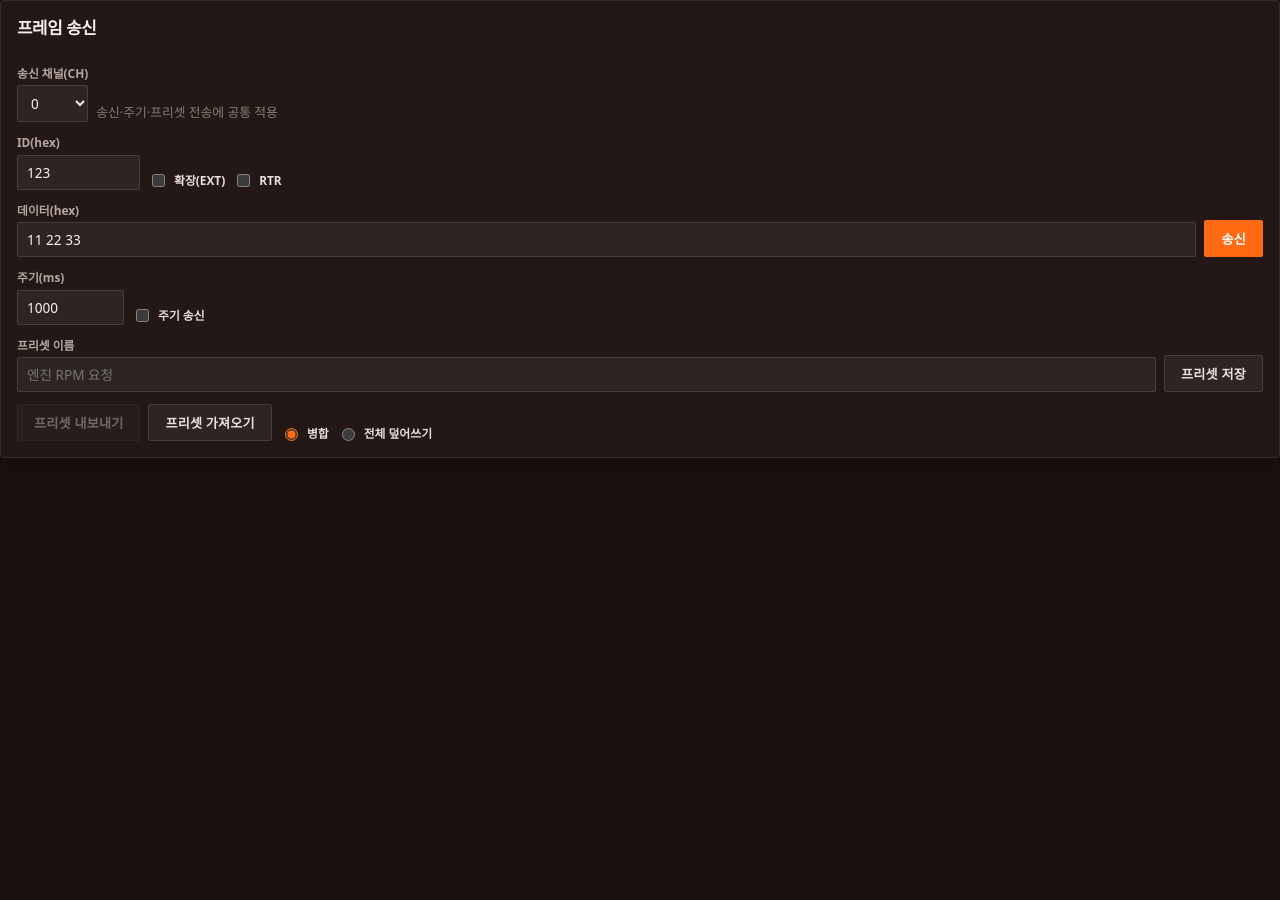
Scenario: 프리셋 이름 변경(인라인 편집) › 다른 프리셋과 같은 이름으로 커밋하면 거부하고 오류를 표시한다(병합하지 않음)
The image size is (1280, 900).
Replace the text in the field labelled "ID(hex)" with "111" at [78, 172], box [17,155,140,190]
Type "A" into the field with placeholder "엔진 RPM 요청" at [587, 375], box [17,357,1156,392]
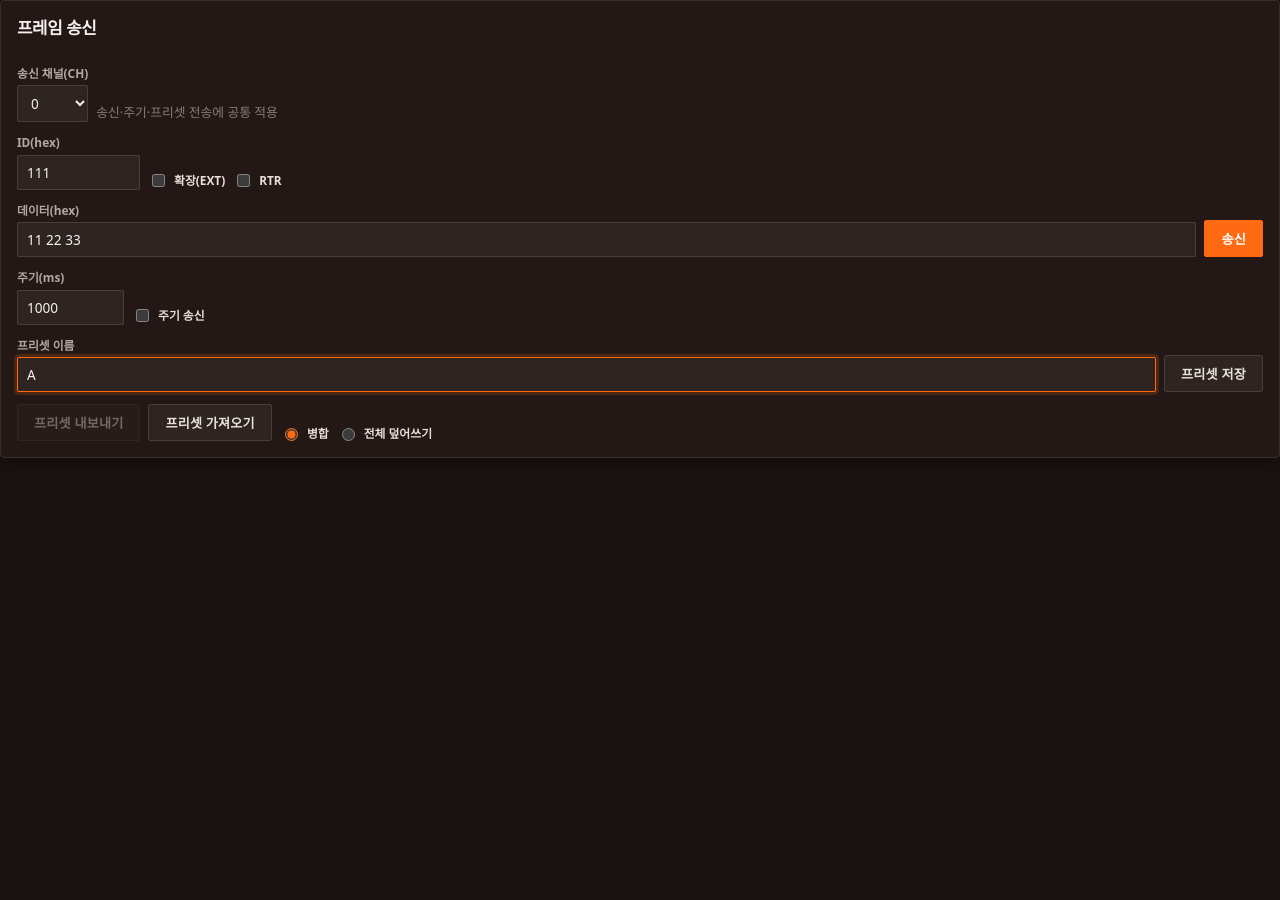
Click the button "프리셋 저장" at [1214, 374], box [1164,355,1263,392]
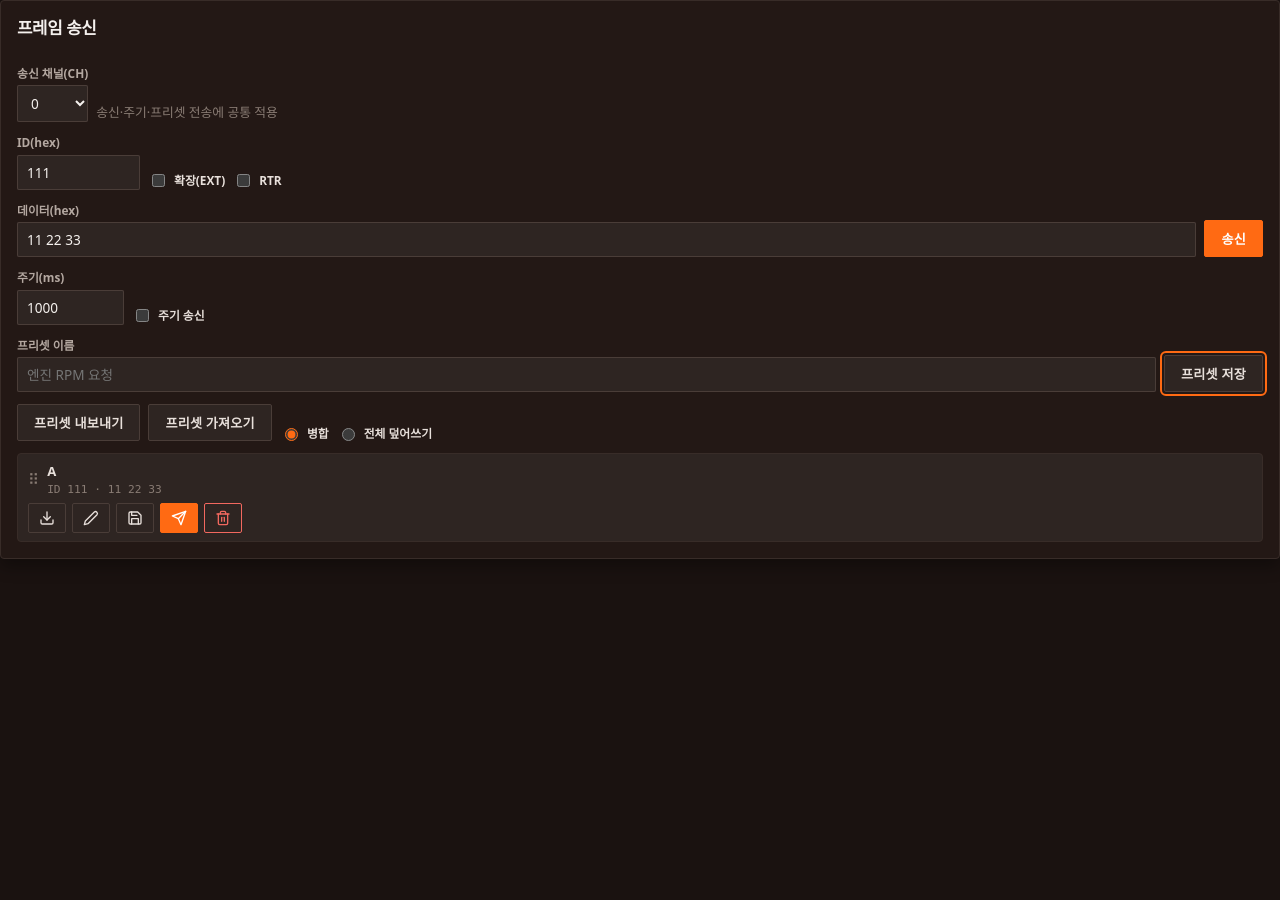
Replace the text in the field labelled "ID(hex)" with "222" at [78, 172], box [17,155,140,190]
Type "B" into the field with placeholder "엔진 RPM 요청" at [587, 375], box [17,357,1156,392]
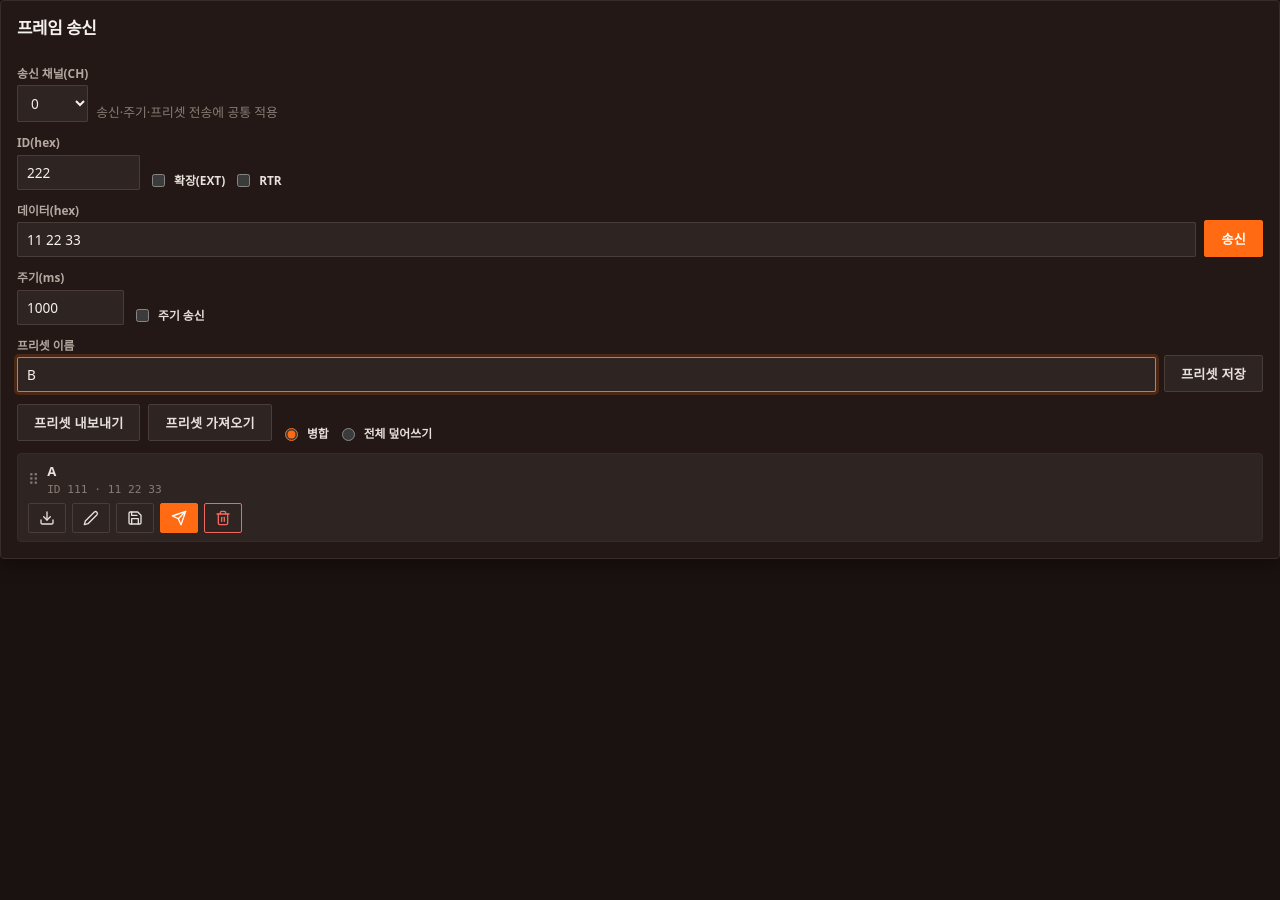
Click the button "프리셋 저장" at [1214, 374], box [1164,355,1263,392]
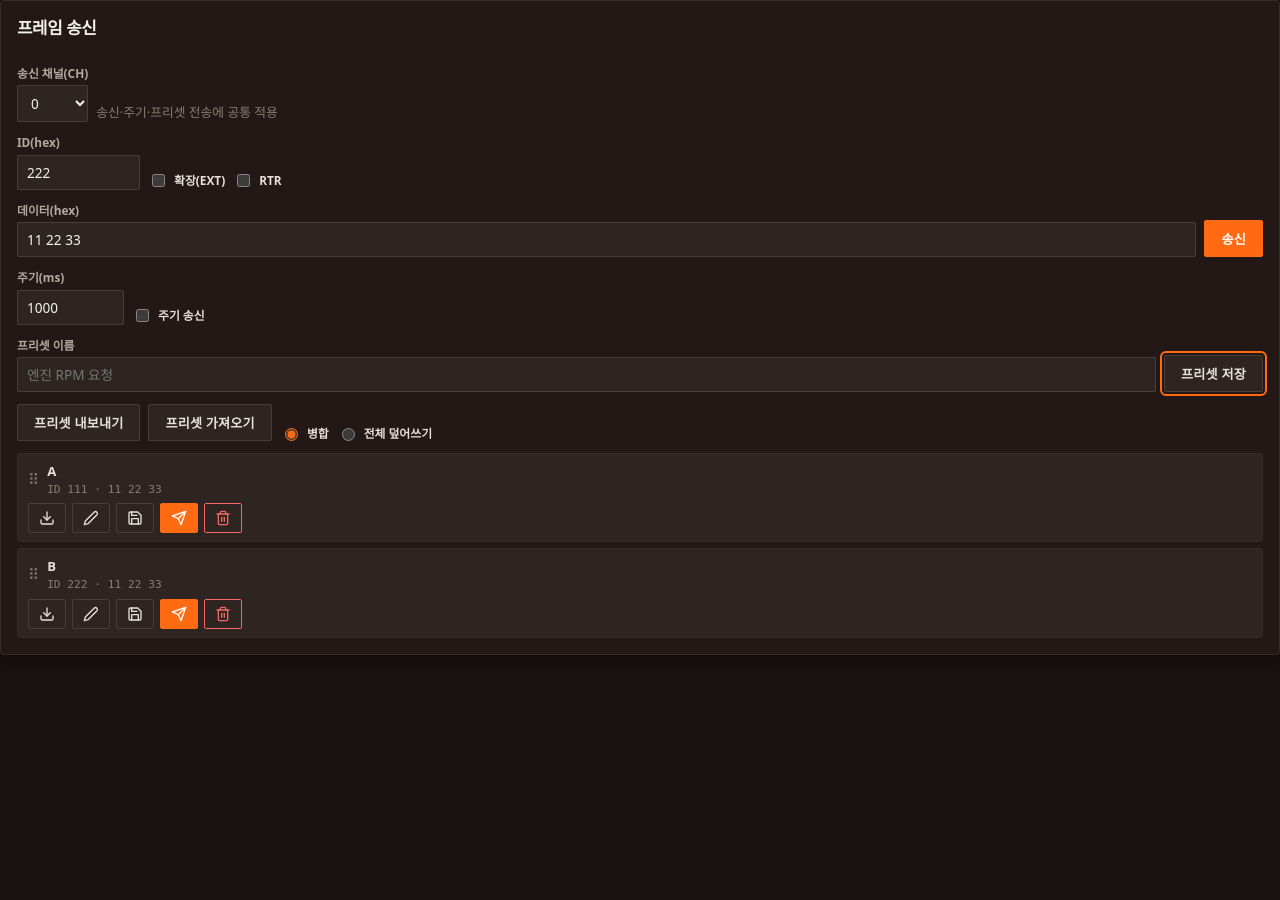
Click the button named "이름 변경" below "ID 222 · 11 22 33" at [91, 614], box [72,598,110,628]
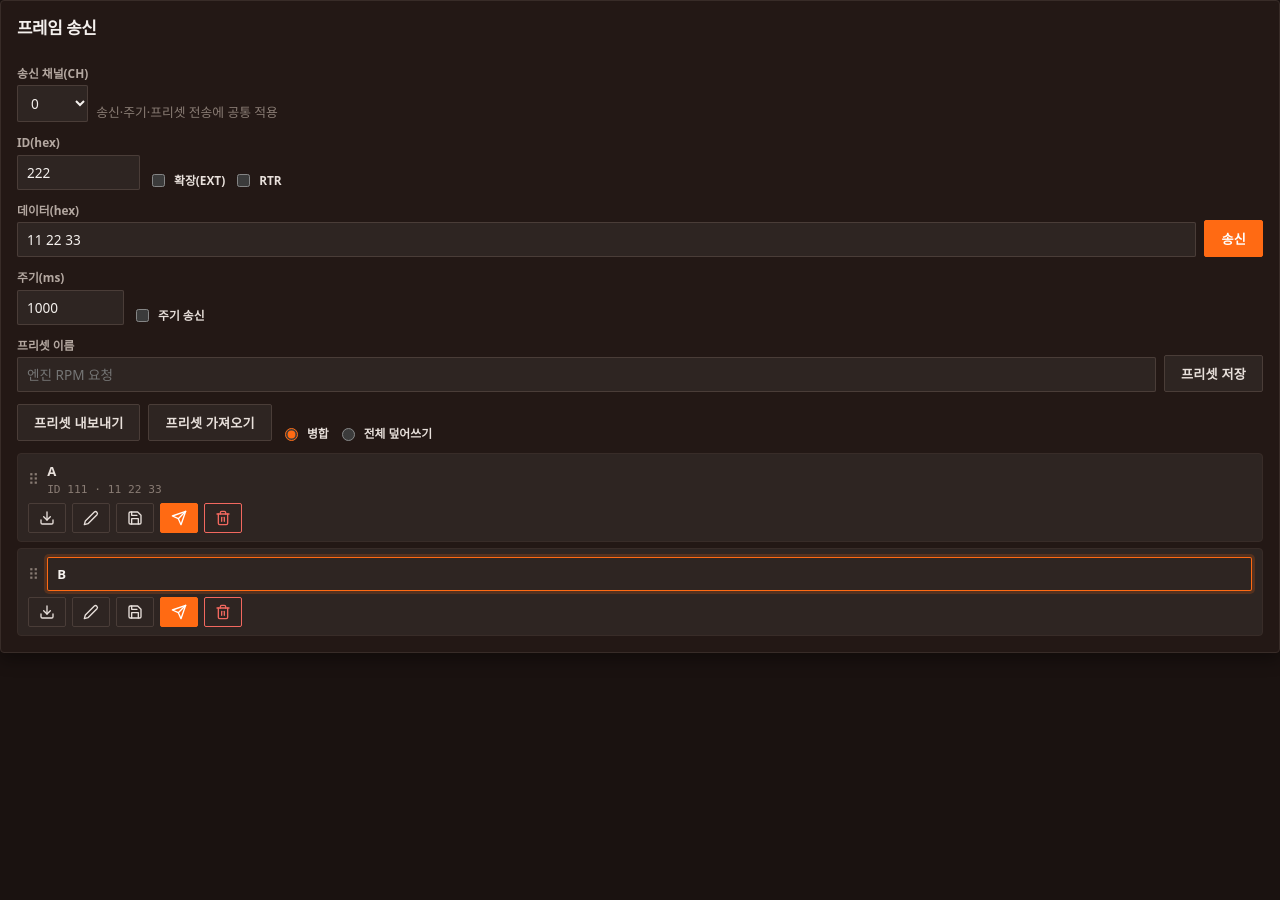
Replace the text in the field named "B 이름 변경" with "A" at [650, 574], box [47,558,1252,592]
Then press Enter
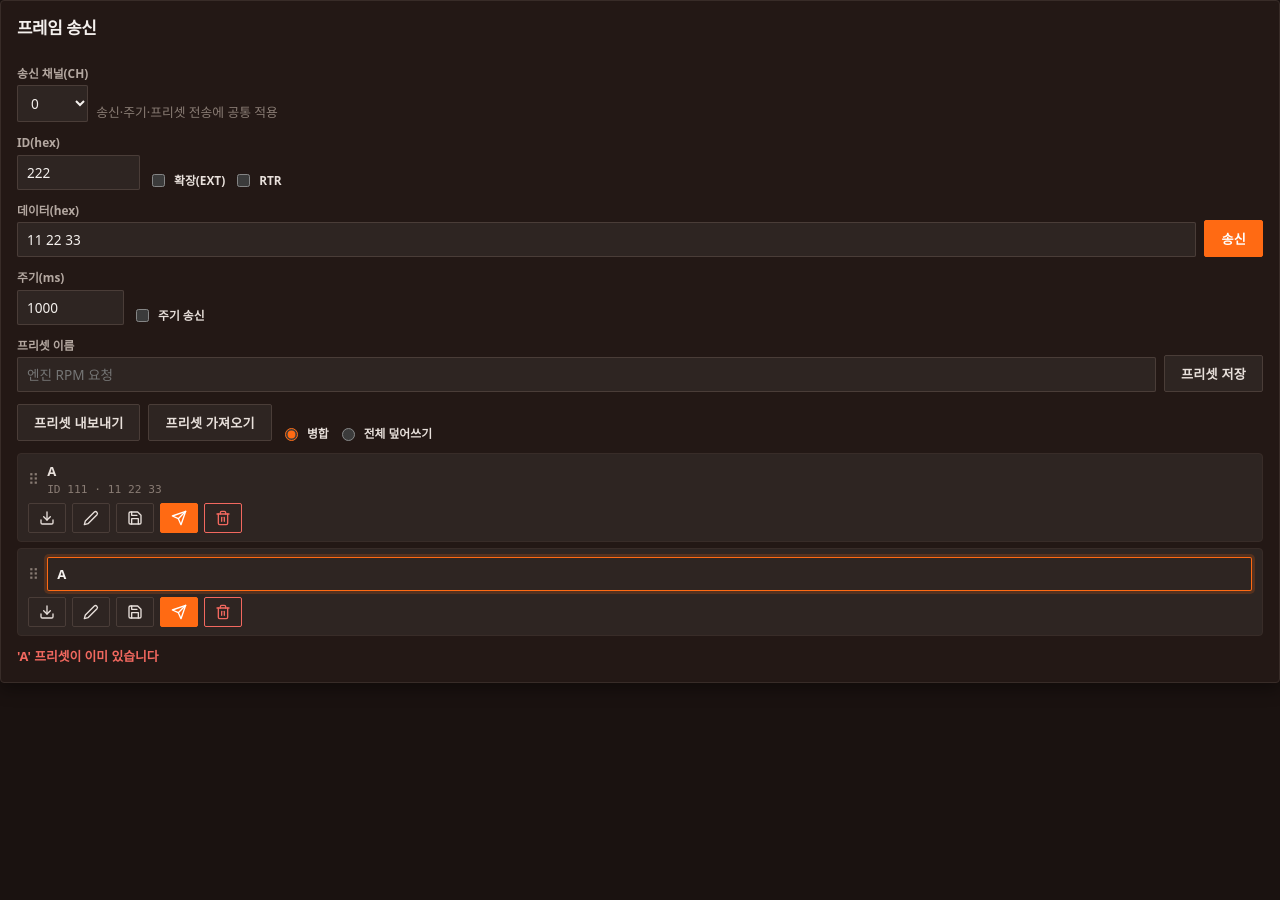
Expected: the text "A" is shown once, [47,462,56,480]
Expected: the text "'A' 프리셋이 이미 있습니다" is shown, [17,648,159,666]
